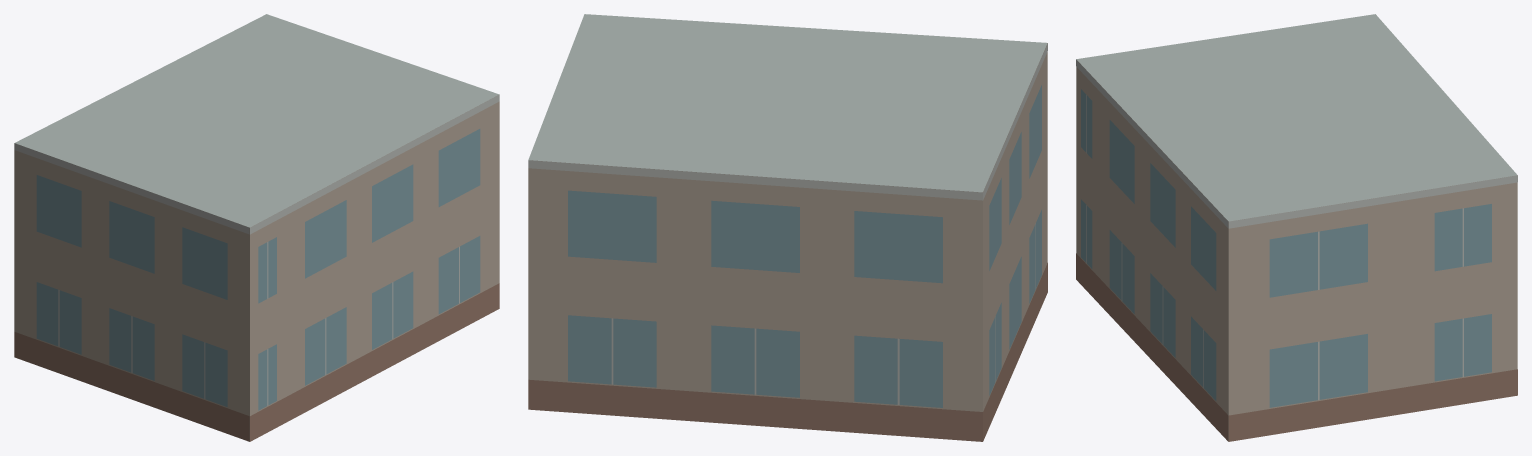
Rendered from survey-upis-32745982.glb.
The picture shows the model from 3 angles, left to right: view 1: azimuth 30°, elevation 25°; view 2: azimuth 150°, elevation 25°; view 3: azimuth 270°, elevation 25°; orthographic projection. The views are drawn at different scales.
Parts seen in each view (by area): view 1: survey-upis-32745982.tmp; view 2: survey-upis-32745982.tmp; view 3: survey-upis-32745982.tmp.
Part boxes in pixels (x1,y1,x2,y2): survey-upis-32745982.tmp: (14,14,499,441); survey-upis-32745982.tmp: (528,14,1047,441); survey-upis-32745982.tmp: (1076,14,1517,441).
Bounding box in the file's own units: 15.17 × 7.5 × 13.64.
